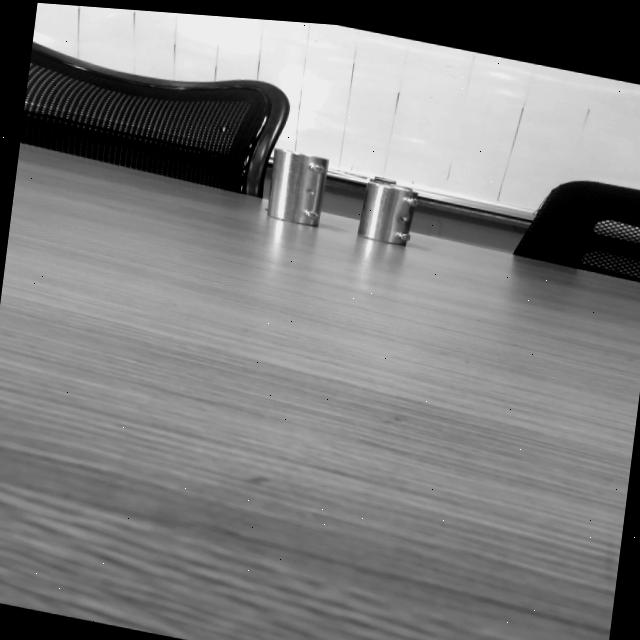Co_Lon: (263, 148, 329, 227)
Co_Nho: (355, 176, 420, 247)
